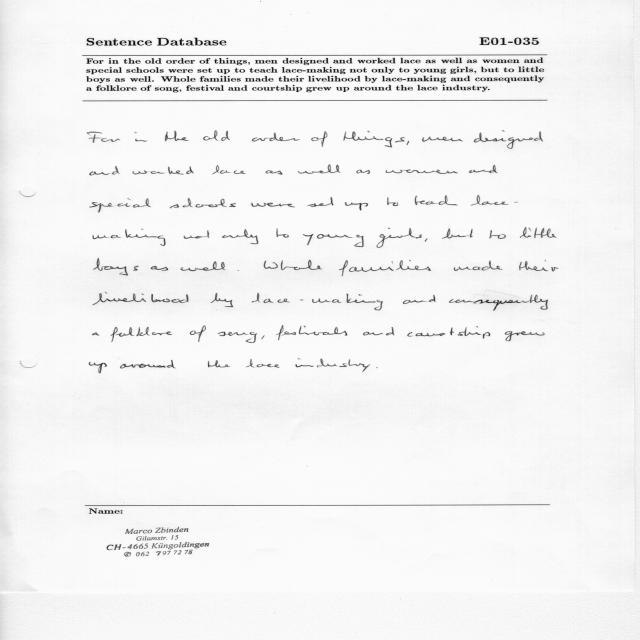word: (252, 293, 383, 310), (449, 295, 548, 311), (339, 260, 431, 276), (474, 130, 543, 149), (93, 228, 165, 246), (93, 292, 188, 305), (407, 326, 490, 339), (276, 326, 347, 341), (343, 131, 405, 148), (295, 359, 370, 372), (110, 327, 172, 342), (377, 228, 422, 248), (90, 198, 151, 212), (94, 258, 139, 276), (303, 234, 364, 247), (170, 198, 236, 208), (264, 260, 322, 270), (222, 229, 258, 244), (471, 195, 518, 206), (133, 167, 194, 175), (454, 261, 502, 271), (181, 261, 226, 271), (120, 360, 176, 368), (252, 133, 300, 142), (415, 196, 458, 206), (218, 332, 257, 343), (519, 261, 559, 271), (505, 331, 545, 341), (87, 131, 120, 143), (520, 227, 556, 238), (298, 165, 340, 174), (385, 169, 458, 174), (442, 228, 473, 239), (211, 293, 233, 307), (246, 359, 280, 368), (90, 166, 120, 176), (203, 130, 230, 141), (212, 166, 245, 175), (403, 295, 436, 304), (311, 131, 328, 147), (190, 325, 206, 342), (308, 197, 334, 207), (363, 327, 394, 335), (184, 230, 210, 239), (165, 131, 188, 141), (469, 165, 497, 173), (345, 202, 368, 211), (422, 137, 463, 142), (89, 362, 107, 373), (251, 203, 295, 207), (208, 361, 230, 368), (489, 230, 506, 239), (135, 132, 148, 142), (276, 228, 289, 238), (387, 197, 398, 206), (151, 266, 169, 271), (266, 170, 283, 175), (356, 170, 370, 174), (93, 332, 100, 336), (261, 336, 265, 340), (407, 141, 410, 145), (425, 238, 428, 242), (237, 270, 239, 271), (376, 367, 378, 368)
